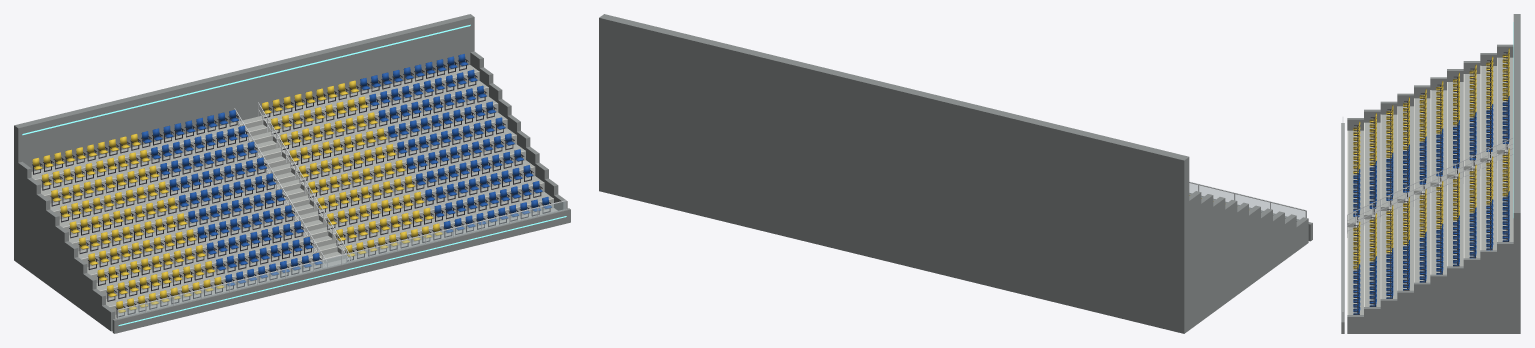
The model's file is tribuna-realistic.glb.
The picture shows the model from 3 angles, left to right: view 1: azimuth 30°, elevation 25°; view 2: azimuth 150°, elevation 25°; view 3: azimuth 270°, elevation 25°; orthographic projection. The views are drawn at different scales.
Parts seen in each view (by area): view 1: Бетон, Бетон тёмный, Синие кресла, Каркас кресел, Жёлтые кресла, Стекло, Кромка ступени, Металл, LED; view 2: Бетон тёмный, Стекло; view 3: Бетон, Бетон тёмный, Жёлтые кресла, Каркас кресел, Синие кресла, Кромка ступени, Металл, LED.
Part boxes in pixels (x1=…): Бетон: x1=31, y1=65, x2=557, y2=318; Бетон тёмный: x1=14, y1=14, x2=570, y2=333; Синие кресла: x1=141, y1=54, x2=551, y2=285; Каркас кресел: x1=32, y1=59, x2=551, y2=317; Жёлтые кресла: x1=32, y1=80, x2=442, y2=312; Стекло: x1=118, y1=201, x2=565, y2=318; Кромка ступени: x1=35, y1=71, x2=553, y2=306; Металл: x1=117, y1=102, x2=566, y2=319; LED: x1=22, y1=24, x2=566, y2=325; Бетон тёмный: x1=599, y1=14, x2=1312, y2=333; Стекло: x1=1189, y1=183, x2=1305, y2=220; Бетон: x1=1347, y1=57, x2=1513, y2=314; Бетон тёмный: x1=1341, y1=14, x2=1520, y2=333; Жёлтые кресла: x1=1353, y1=48, x2=1509, y2=269; Каркас кресел: x1=1354, y1=52, x2=1509, y2=314; Синие кресла: x1=1353, y1=96, x2=1509, y2=314; Кромка ступени: x1=1347, y1=57, x2=1505, y2=314; Металл: x1=1342, y1=117, x2=1513, y2=320; LED: x1=1513, y1=22, x2=1513, y2=217.
Size of the model in its own units: 32.6 by 9.23 by 12.43.
